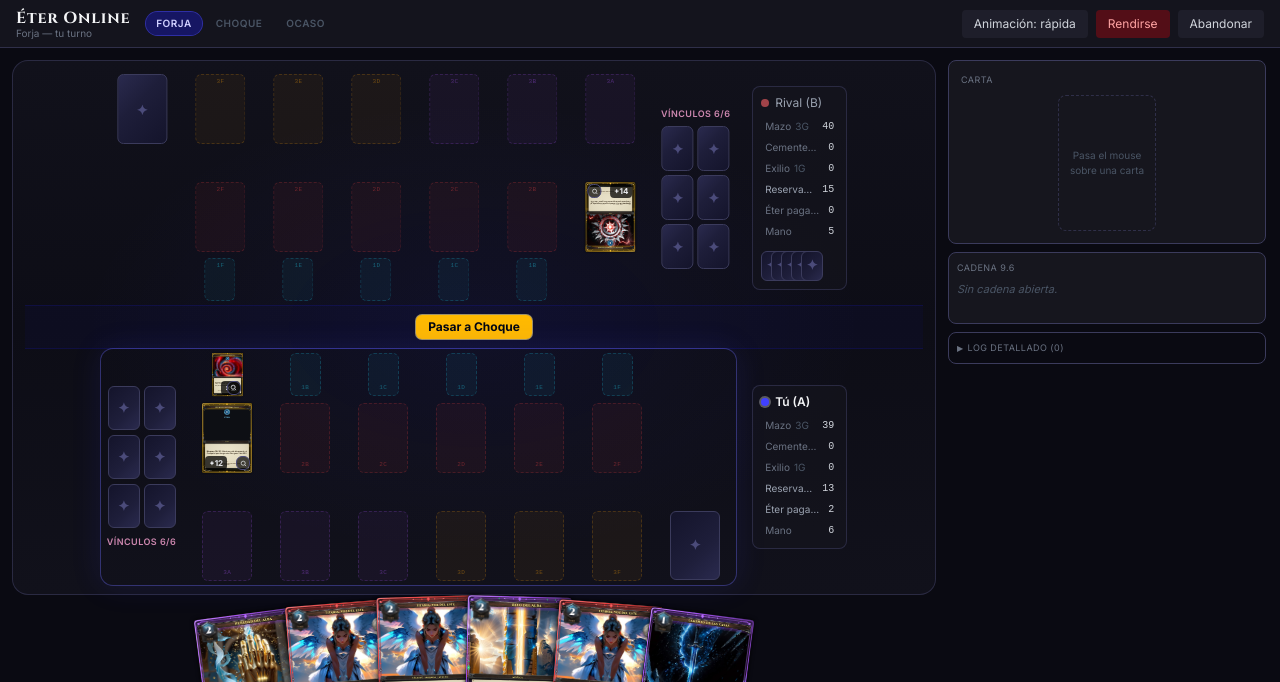
Scenario: Grilla rival invertida y Éteres pagados (1A) › el clic en el Éter pagado (1A) propio abre el panel con la lista completa
The image size is (1280, 682).
Click the element titled "Éter del Alba Primigenia". click: {"x": 227, "y": 375}
box: [212,353,243,397]
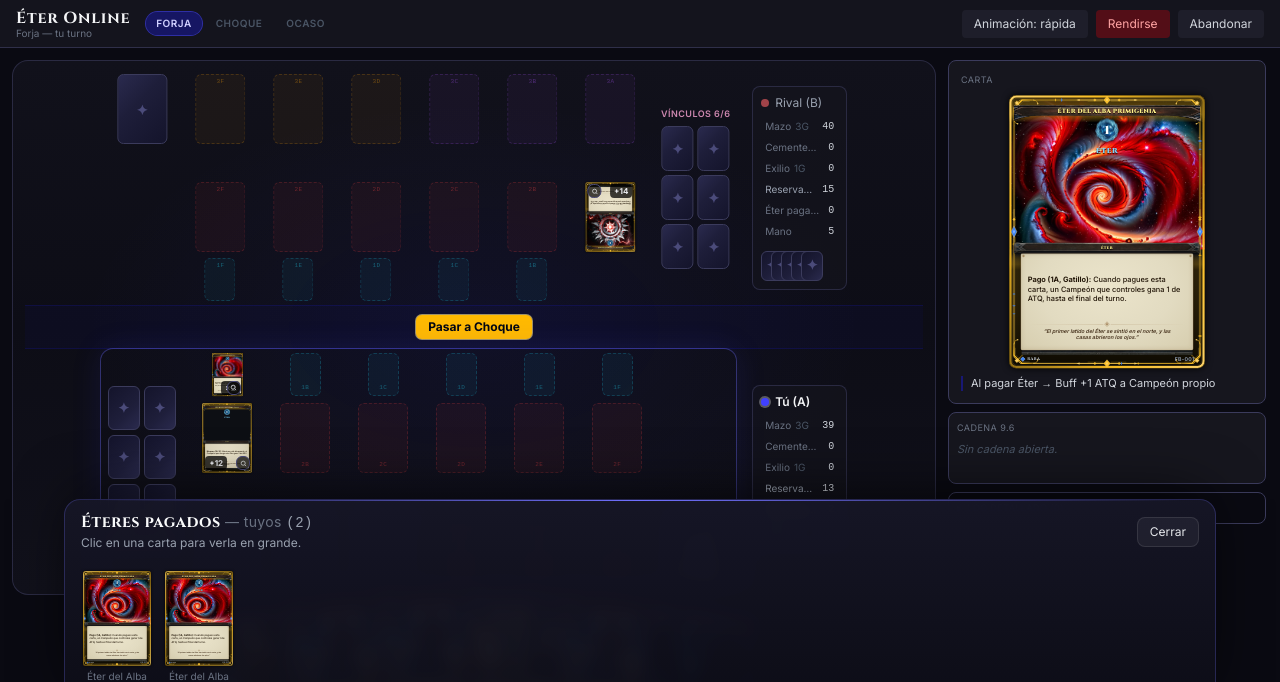
Now the heading "Éteres pagados — tuyos (2)" is shown, box [81,511,313,533]
Click the button "Cerrar". click: {"x": 1168, "y": 532}
box: [1137,517,1199,547]
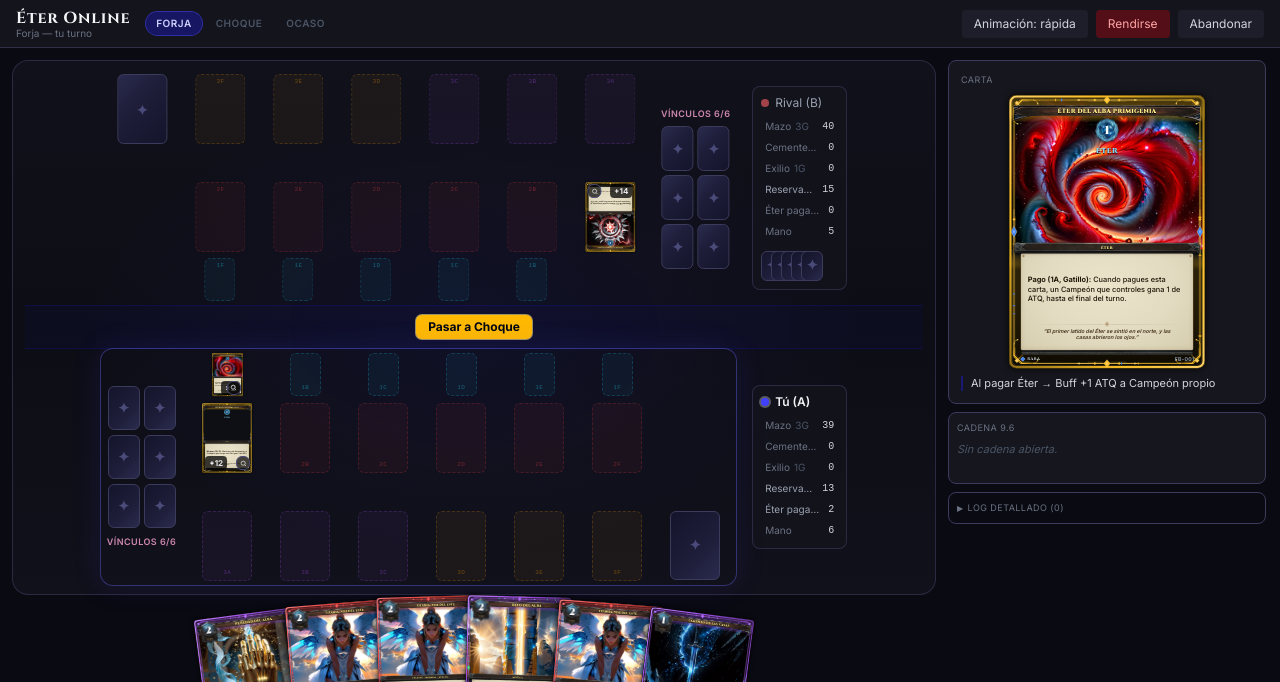
Now the heading "Éteres pagados" is gone
